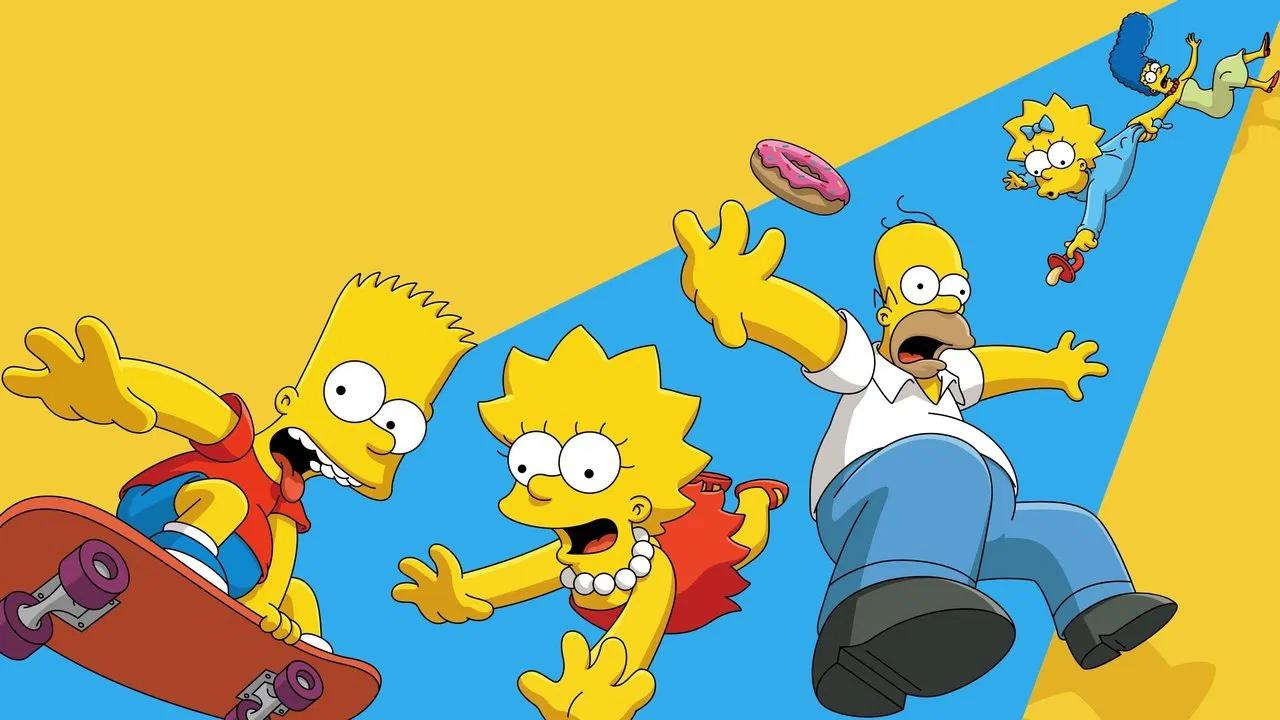Bart: (24, 237, 449, 720)
Homer: (790, 175, 1128, 700)
Lisa: (470, 329, 777, 708)
Maggie: (984, 80, 1203, 298)
Marge: (1091, 0, 1263, 132)
